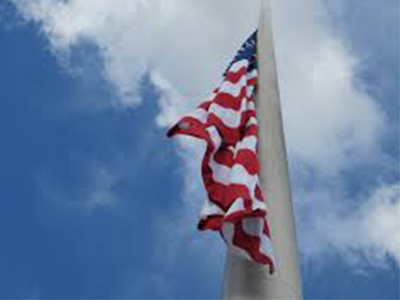America flag: (163, 26, 272, 271)
